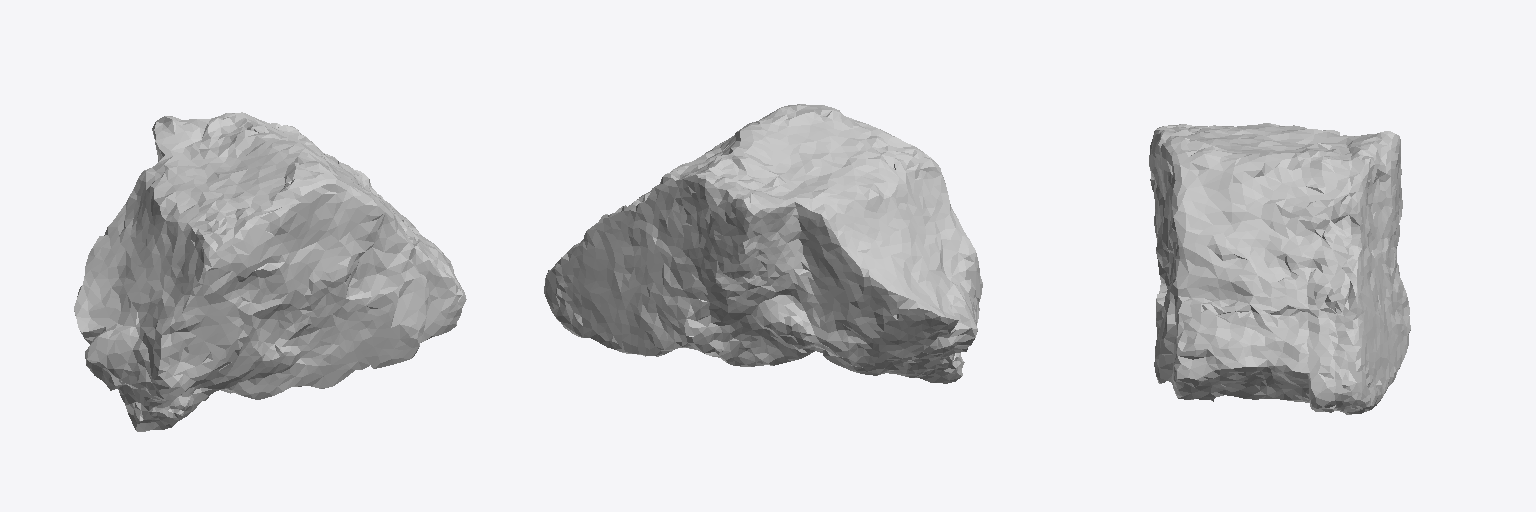
File: moss rock 14.obj
3 renders of one model, left to right at view 1: azimuth 30°, elevation 25°; view 2: azimuth 150°, elevation 25°; view 3: azimuth 270°, elevation 25°, orthographic.
Size of the model in its own units: 2.79 by 1.61 by 1.67.